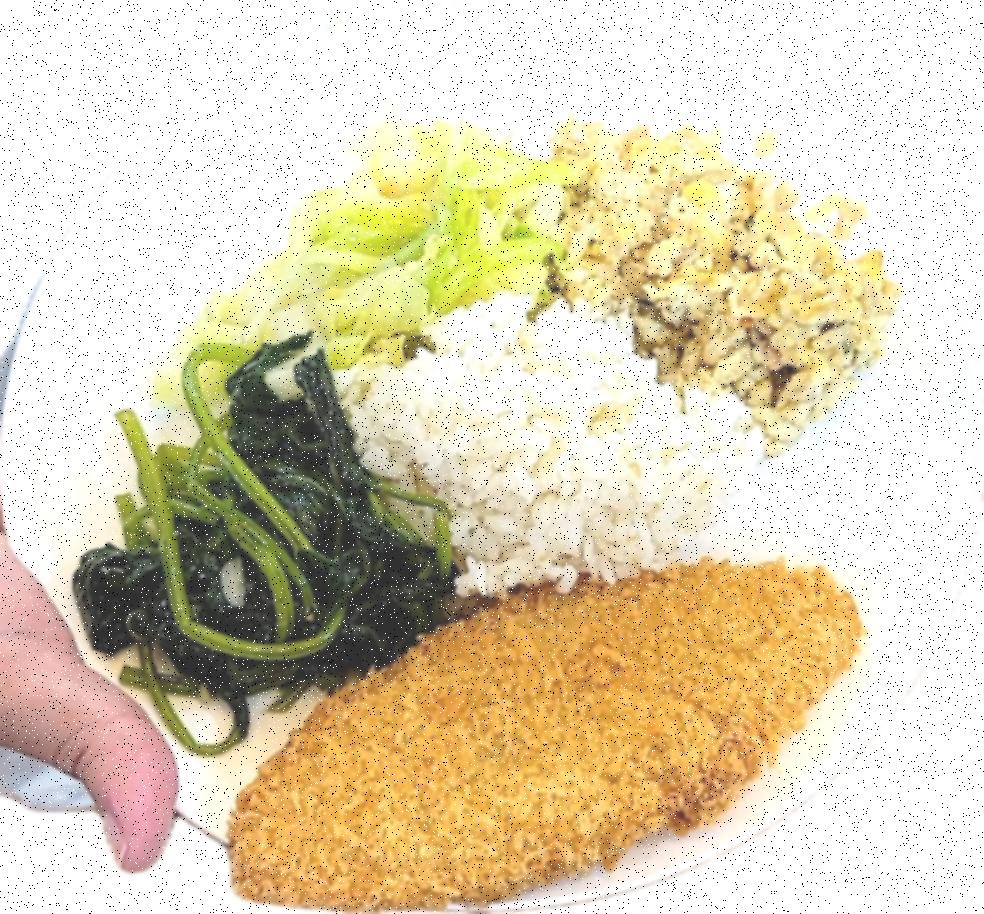big fried chicken leg: (0, 4, 984, 914)
big herbal chicken leg: (341, 291, 760, 602)
braised fish fillet: (142, 10, 560, 400), (71, 337, 468, 708), (552, 98, 890, 458)
braised pork: (230, 546, 872, 914)
